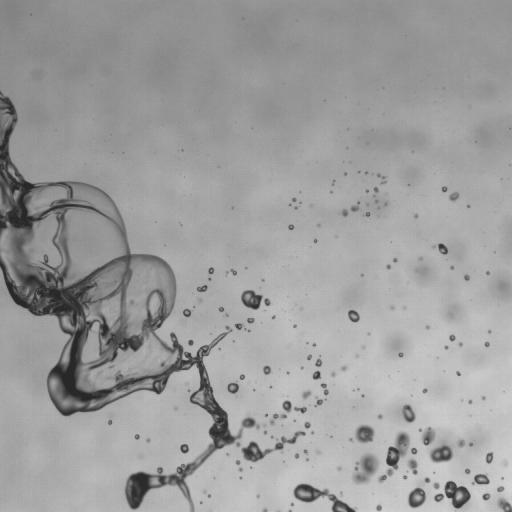droplet: (434, 481, 470, 510), (352, 453, 379, 484), (428, 444, 452, 463), (355, 424, 374, 443), (419, 427, 435, 445), (402, 404, 415, 422), (471, 473, 489, 484), (497, 498, 511, 511), (407, 458, 417, 474), (435, 243, 447, 254), (348, 310, 359, 322), (227, 382, 238, 393), (485, 452, 493, 463), (449, 192, 458, 201), (262, 365, 271, 374), (302, 390, 311, 399), (315, 397, 324, 406), (350, 203, 359, 211), (182, 309, 191, 317), (180, 444, 188, 453), (197, 285, 207, 292), (312, 371, 320, 379), (315, 357, 322, 366), (234, 323, 244, 329), (457, 439, 464, 447), (482, 493, 490, 500), (342, 209, 348, 216), (449, 334, 455, 341), (410, 448, 417, 454), (433, 482, 439, 489), (341, 365, 347, 371), (304, 422, 310, 428), (497, 486, 503, 492), (208, 267, 213, 274), (247, 318, 254, 323), (376, 504, 381, 511), (230, 269, 236, 274), (464, 274, 469, 280), (188, 339, 193, 345), (465, 468, 470, 474), (442, 186, 447, 191), (288, 224, 293, 229), (484, 341, 489, 346), (398, 352, 403, 357), (239, 374, 244, 379), (422, 388, 427, 393), (235, 460, 240, 465), (374, 187, 378, 193), (364, 212, 370, 216), (386, 264, 390, 269), (378, 414, 382, 419), (135, 434, 139, 439), (303, 449, 307, 454), (294, 454, 299, 458), (503, 460, 507, 465), (292, 197, 296, 201), (393, 258, 397, 262), (219, 307, 223, 311), (458, 342, 462, 346), (444, 345, 448, 349), (307, 355, 311, 359), (456, 371, 460, 375), (331, 372, 335, 376), (146, 438, 150, 442), (403, 475, 407, 479), (262, 508, 267, 511), (414, 214, 417, 218), (468, 400, 472, 403), (108, 420, 111, 424), (349, 438, 353, 441), (469, 442, 472, 446), (239, 467, 242, 471), (337, 467, 341, 470), (290, 502, 293, 506), (314, 239, 317, 242), (450, 266, 453, 269), (486, 271, 489, 274), (130, 301, 133, 304), (426, 325, 429, 328), (174, 406, 177, 409), (198, 299, 201, 301), (391, 306, 393, 309), (272, 316, 275, 318), (294, 324, 296, 327), (246, 329, 249, 331), (313, 343, 316, 345), (482, 397, 485, 399), (264, 431, 266, 434), (311, 431, 313, 434), (256, 495, 259, 497), (332, 181, 334, 183), (375, 199, 377, 201), (467, 204, 469, 206), (295, 206, 297, 208), (420, 257, 422, 259), (356, 355, 358, 357), (265, 414, 267, 416)
ligament: (0, 91, 305, 511), (293, 483, 356, 511), (378, 431, 409, 482), (269, 400, 306, 425), (407, 477, 430, 508), (241, 290, 271, 309), (321, 383, 328, 395), (377, 174, 385, 184), (288, 510, 292, 511)
